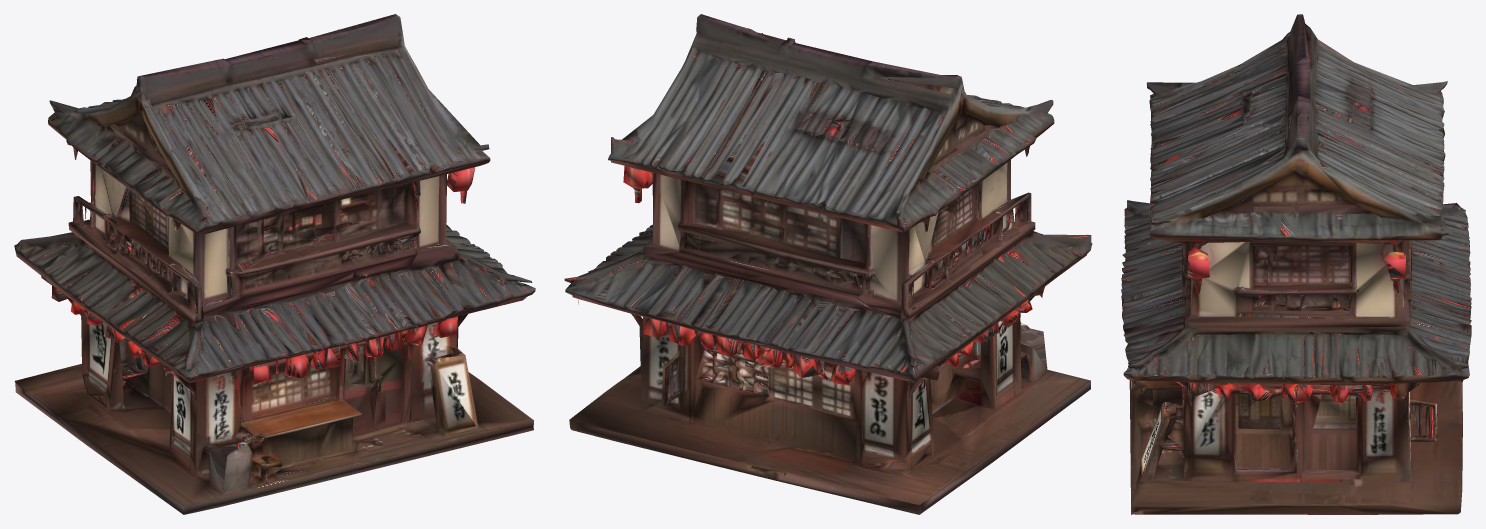
Rendered from bq_shop_lantern.mid.glb.
3 views of the same model, side by side, from view 1: azimuth 30°, elevation 25°; view 2: azimuth 150°, elevation 25°; view 3: azimuth 270°, elevation 25° (orthographic). The views are drawn at different scales.
Bounding box in the file's own units: 1.99 × 1.98 × 1.76.
1 material, 1 textured.
